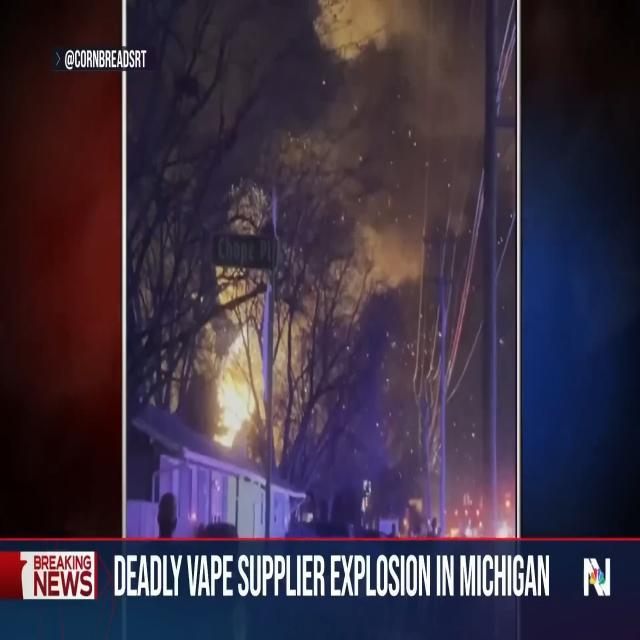fire: (176, 248, 287, 466)
